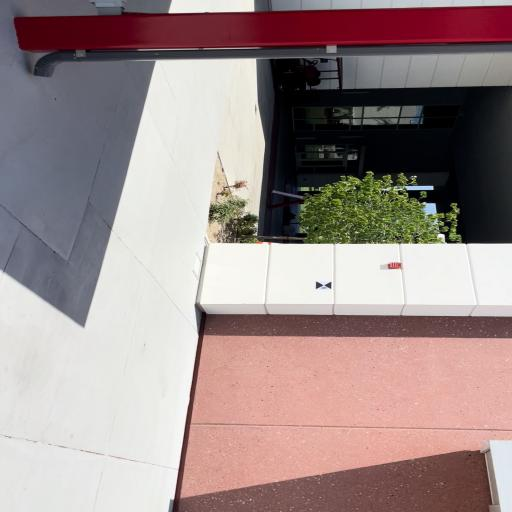target6: (315, 281, 332, 290)
